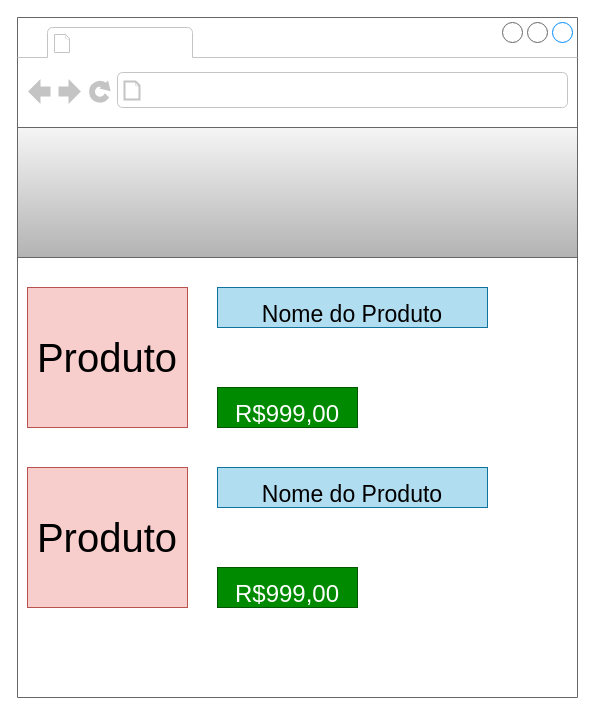
Image size: 595x715. Some labels were removed from this diagram. Each missing label, with the centre of its shape:
"e-commercecamisetas.com/Historico" belongs at [287,90].
"Historico" belongs at [132,42].
"Histórico de Compras" belongs at [297,192].
